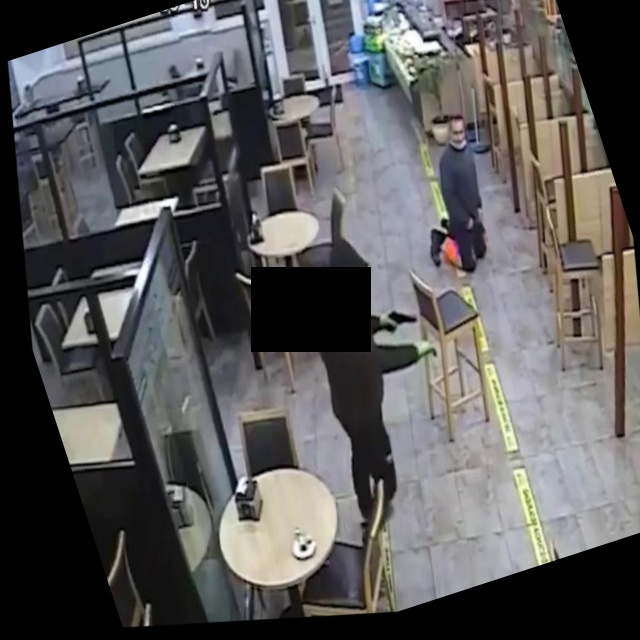gun: (366, 281, 436, 356)
